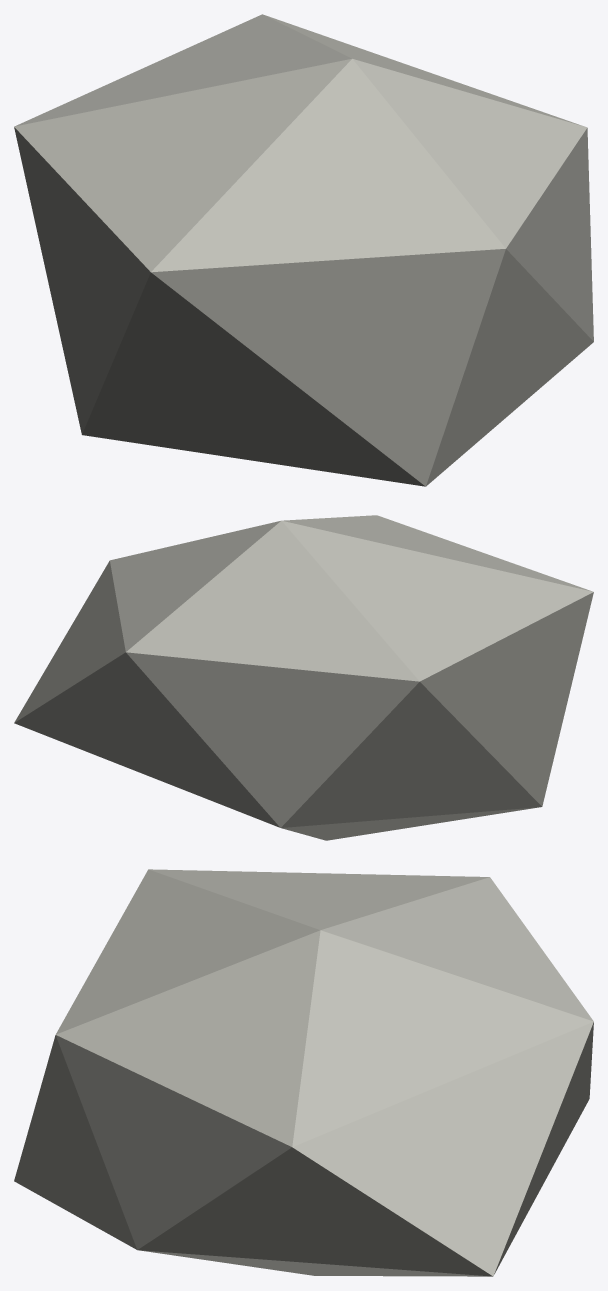
Rendered from SmallRock.fbx.
3 views of the same model, one above another, from view 1: azimuth 30°, elevation 25°; view 2: azimuth 150°, elevation 25°; view 3: azimuth 270°, elevation 25° (orthographic). The views are drawn at different scales.
Parts seen in each view (by area): view 1: SmallRock; view 2: SmallRock; view 3: SmallRock.
Boxes of the visible parts, x1,y1,x2,y2 form: SmallRock: (14, 14, 593, 486); SmallRock: (14, 515, 593, 840); SmallRock: (14, 869, 593, 1276).
Size of the model in its own units: 1.51 by 1.03 by 1.46.
Materials: 1 (1 with a texture image).
